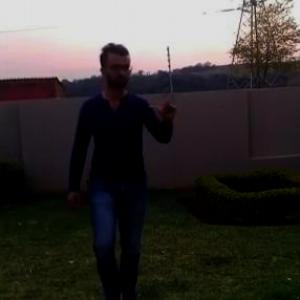land_hand: (142, 78, 176, 121)
